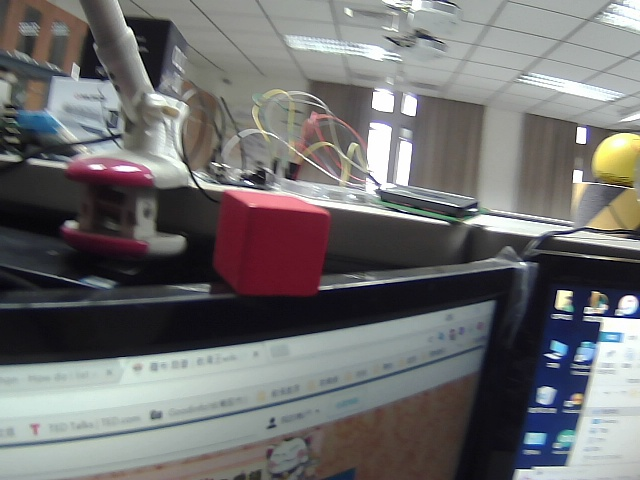redbox: (207, 181, 336, 303)
